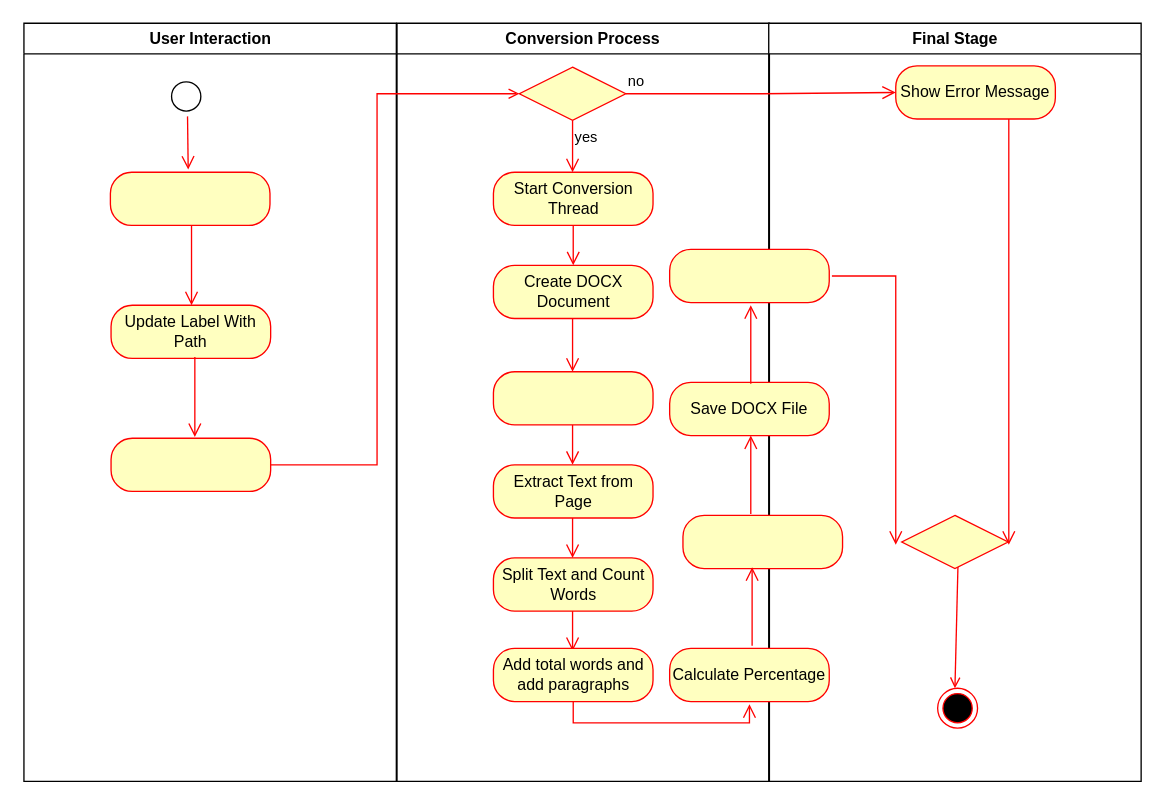
Image size: 1164x805. Some labels were removed from this diagram. The shapes that lost their labels are listed below. From the top down, each one's centre as x and y in pixels, then its label:
At pixel 572 93: "Is PDF file not corrupted?".
At pixel 189 198: "Browse PDF".
At pixel 748 275: "Show Success Message".
At pixel 572 397: "Initialise Page and Word Counting".
At pixel 190 464: "Click Convert".
At pixel 762 541: "Update Progress Label".
